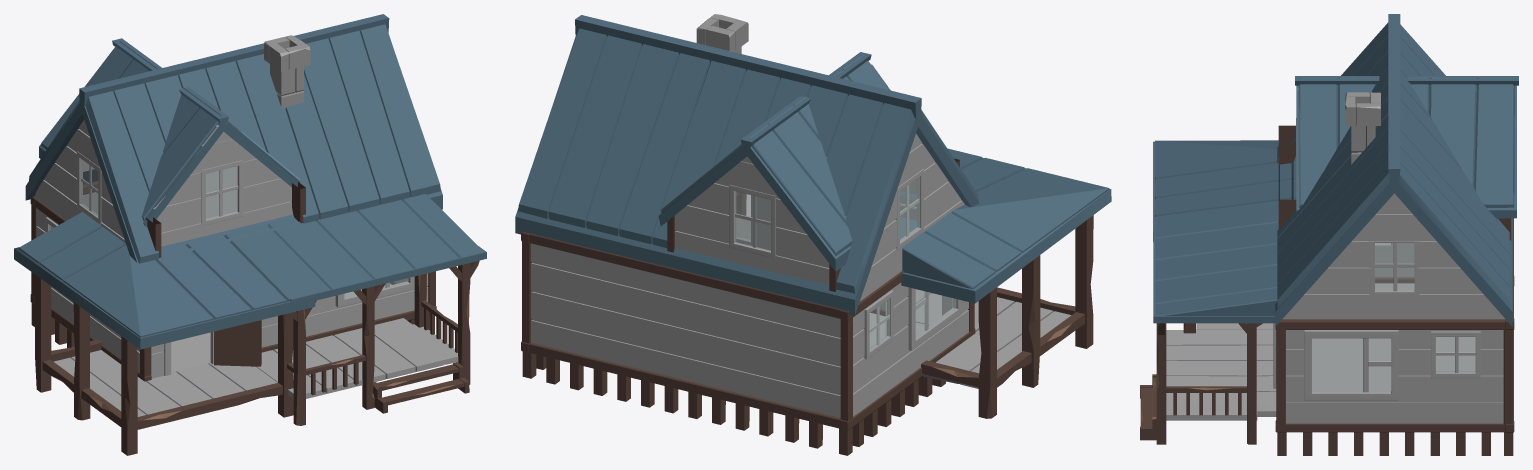
File: HouseRoof.fbx
The picture shows the model from 3 angles, left to right: view 1: azimuth 30°, elevation 25°; view 2: azimuth 150°, elevation 25°; view 3: azimuth 270°, elevation 25°; orthographic projection. The views are drawn at different scales.
Parts seen in each view (by area): view 1: polySurface6, polySurface22, polySurface26, roofElement6, polySurface27, polySurface11, outsideHome, polySurface23, polySurface8, roofElement3, polySurface7, inside (+25 smaller); view 2: polySurface6, outsideHome, polySurface22, polySurface8, roofElement2, polySurface11, polySurface7, roofElement3, polySurface27, ugol8, polySurface23, ugol9 (+22 smaller); view 3: polySurface22, polySurface6, polySurface11, roofElement, outsideHome, polySurface26, inside, polySurface8, glass1, pCube4, ugol5, ugol4 (+19 smaller).
Part boxes in pixels (x1,y1,x2,y2): polySurface6: [29, 24, 440, 263]; polySurface22: [19, 194, 483, 337]; polySurface26: [256, 318, 458, 398]; roofElement6: [153, 123, 292, 246]; polySurface27: [54, 350, 277, 416]; polySurface11: [41, 41, 300, 220]; outsideHome: [36, 208, 428, 378]; polySurface23: [14, 247, 315, 349]; polySurface8: [25, 32, 442, 262]; roofElement3: [34, 120, 125, 243]; polySurface7: [79, 14, 389, 107]; inside: [51, 166, 407, 372]; polySurface6: [518, 28, 978, 293]; outsideHome: [531, 243, 968, 417]; polySurface22: [900, 148, 1109, 288]; polySurface8: [515, 35, 979, 315]; roofElement2: [675, 156, 829, 285]; polySurface11: [661, 55, 916, 255]; polySurface7: [575, 15, 921, 119]; roofElement3: [859, 133, 964, 301]; polySurface27: [915, 289, 1071, 388]; ugol8: [521, 341, 852, 430]; polySurface23: [900, 158, 1111, 303]; ugol9: [521, 231, 852, 319]; polySurface22: [1155, 140, 1296, 315]; polySurface6: [1277, 22, 1509, 308]; polySurface11: [1298, 78, 1514, 207]; roofElement: [1282, 193, 1505, 319]; outsideHome: [1286, 330, 1503, 423]; polySurface26: [1166, 330, 1276, 420]; inside: [1312, 243, 1475, 390]; polySurface8: [1275, 161, 1512, 326]; glass1: [1312, 338, 1390, 391]; pCube4: [1304, 330, 1398, 400]; ugol5: [1275, 319, 1514, 329]; ugol4: [1275, 420, 1514, 432].
Bounding box in the file's own units: 275 × 209 × 237.
